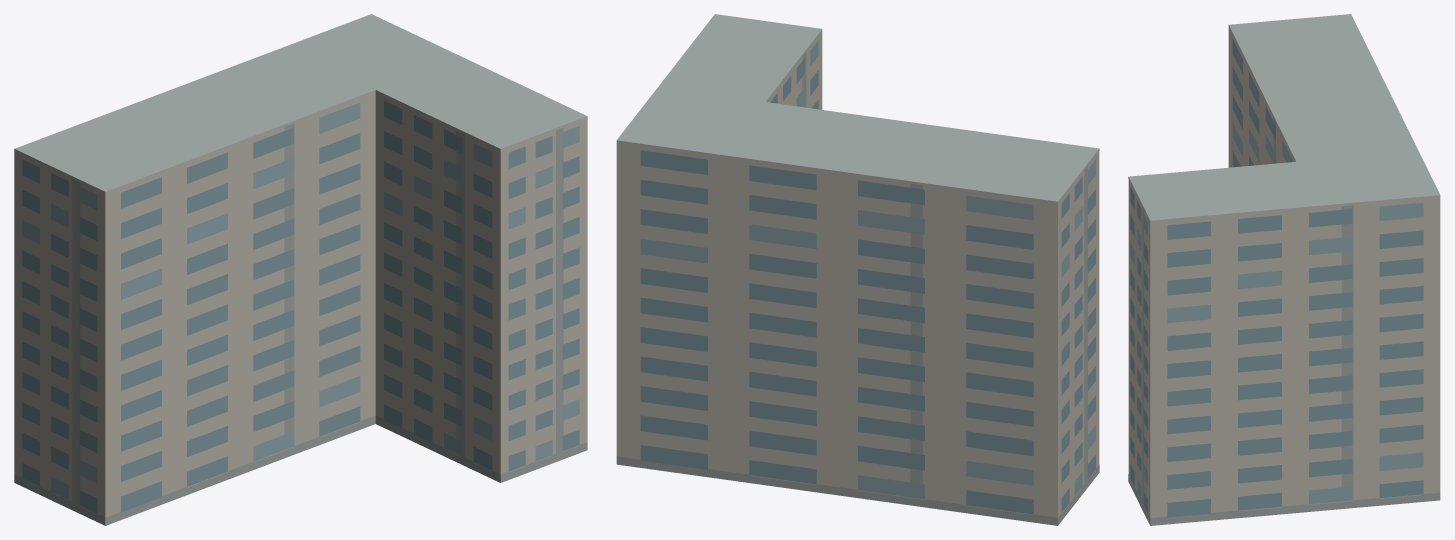
File: residential-360c7cfc-bfc0-479f-b5dd-57fd9f957fad.glb
The picture shows the model from 3 angles, left to right: view 1: azimuth 30°, elevation 25°; view 2: azimuth 150°, elevation 25°; view 3: azimuth 270°, elevation 25°; orthographic projection. The views are drawn at different scales.
Visible parts, largest first — view 1: residential-360c7cfc-bfc0-479f-b5dd-57fd9f957fad.tmp; view 2: residential-360c7cfc-bfc0-479f-b5dd-57fd9f957fad.tmp; view 3: residential-360c7cfc-bfc0-479f-b5dd-57fd9f957fad.tmp.
Part boxes in pixels (left/top/right/bottom): residential-360c7cfc-bfc0-479f-b5dd-57fd9f957fad.tmp: left=14, top=14, right=587, bottom=525; residential-360c7cfc-bfc0-479f-b5dd-57fd9f957fad.tmp: left=616, top=14, right=1099, bottom=525; residential-360c7cfc-bfc0-479f-b5dd-57fd9f957fad.tmp: left=1128, top=14, right=1440, bottom=525.
Size of the model in its own units: 48.7 by 33.55 by 31.07.
